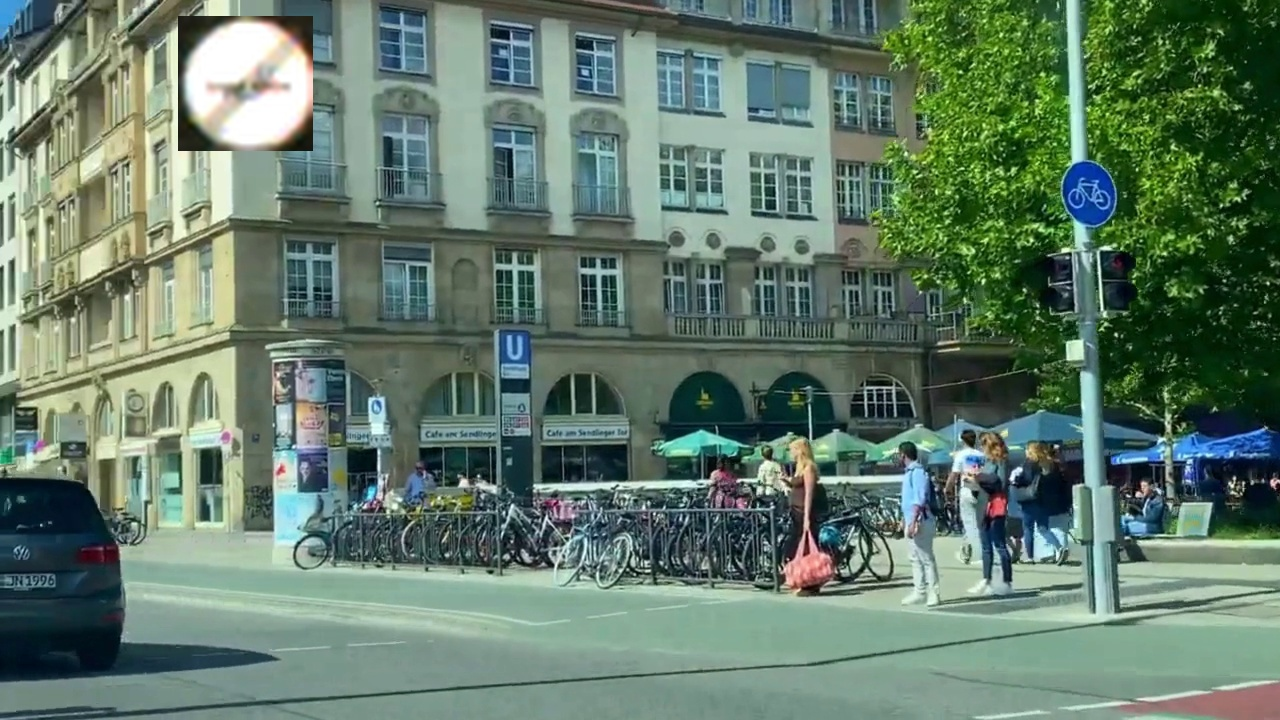End no pass: (178, 16, 313, 151)
